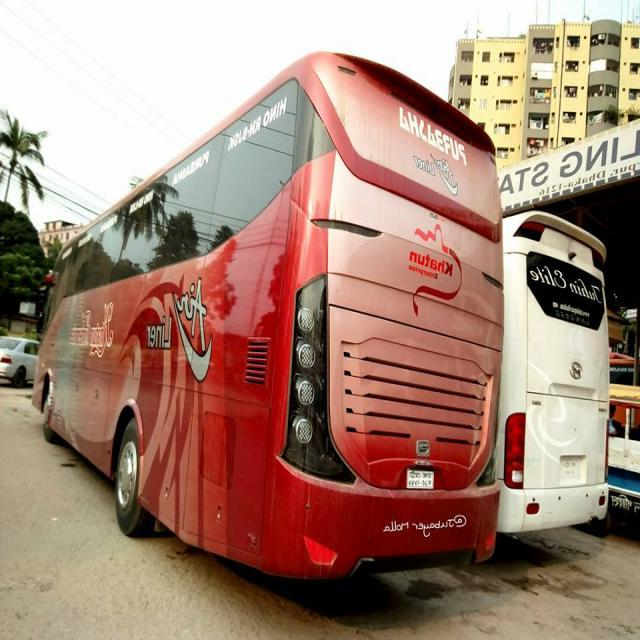Bus: (16, 35, 538, 607), (107, 203, 626, 563)
Car: (1, 323, 51, 409)
